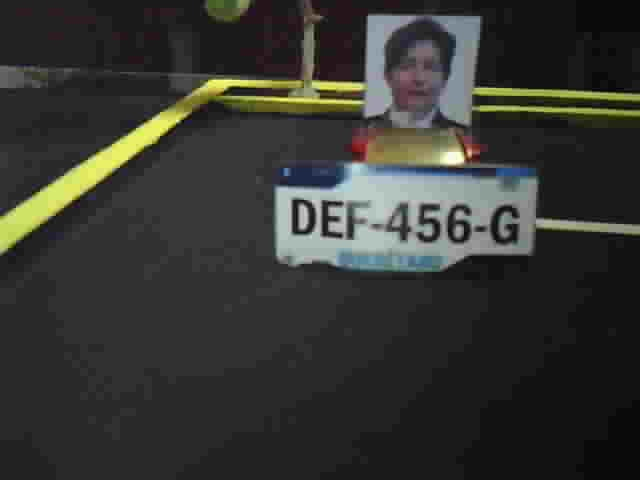PLACA: (273, 160, 540, 278)
ROSTRO: (366, 17, 473, 131)
